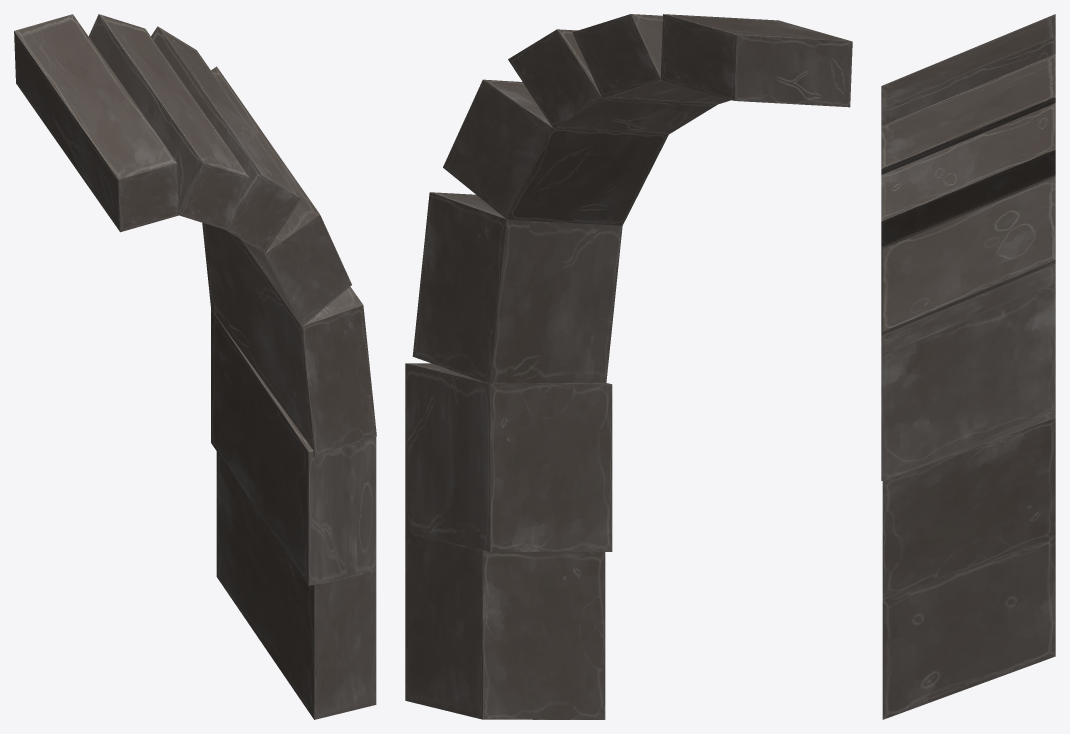
The picture shows the model from 3 angles, left to right: view 1: azimuth 30°, elevation 25°; view 2: azimuth 150°, elevation 25°; view 3: azimuth 270°, elevation 25°; orthographic projection. The views are drawn at different scales.
Visible parts, largest first — view 1: polySurface424, polySurface313, polySurface343, polySurface311, polySurface315, polySurface320, polySurface322; view 2: polySurface424, polySurface313, polySurface343, polySurface322, polySurface311, polySurface320, polySurface315; view 3: polySurface343, polySurface424, polySurface313, polySurface322, polySurface320, polySurface315, polySurface311.
Boxes of the visible parts, <box> form: polySurface424: <box>211,309,376,585</box>; polySurface313: <box>216,451,376,719</box>; polySurface343: <box>202,223,376,457</box>; polySurface311: <box>14,14,178,232</box>; polySurface315: <box>88,14,249,229</box>; polySurface320: <box>151,26,300,253</box>; polySurface322: <box>211,66,351,326</box>; polySurface424: <box>405,363,612,551</box>; polySurface313: <box>405,531,605,719</box>; polySurface343: <box>412,192,622,383</box>; polySurface322: <box>443,79,668,225</box>; polySurface311: <box>660,14,852,107</box>; polySurface320: <box>508,29,717,134</box>; polySurface315: <box>572,14,731,104</box>; polySurface343: <box>881,263,1055,480</box>; polySurface424: <box>882,409,1055,599</box>; polySurface313: <box>882,536,1055,719</box>; polySurface322: <box>881,175,1055,335</box>; polySurface320: <box>881,103,1055,246</box>; polySurface315: <box>881,54,1055,174</box>; polySurface311: <box>881,14,1055,125</box>.
Bounding box in the file's own units: 1.57 × 3.79 × 1.01.
